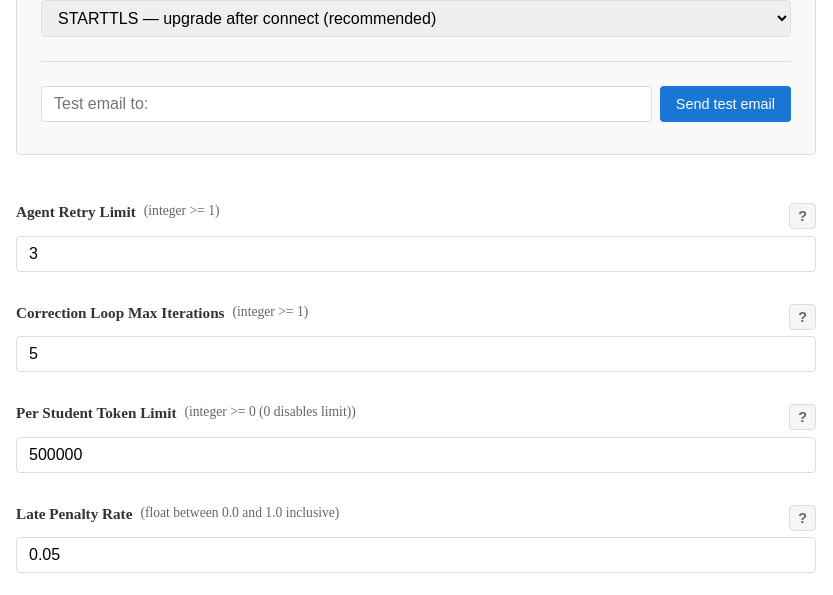
Scenario: SystemConfigView › server 422 validation errors parsed and displayed per field
(page scrolled)
Note: Change a valid field to trigger PATCH
Replace the text in the field with id "config-agent_retry_limit" with "5" at (416, 254), box [16, 236, 816, 272]
(page scrolled)
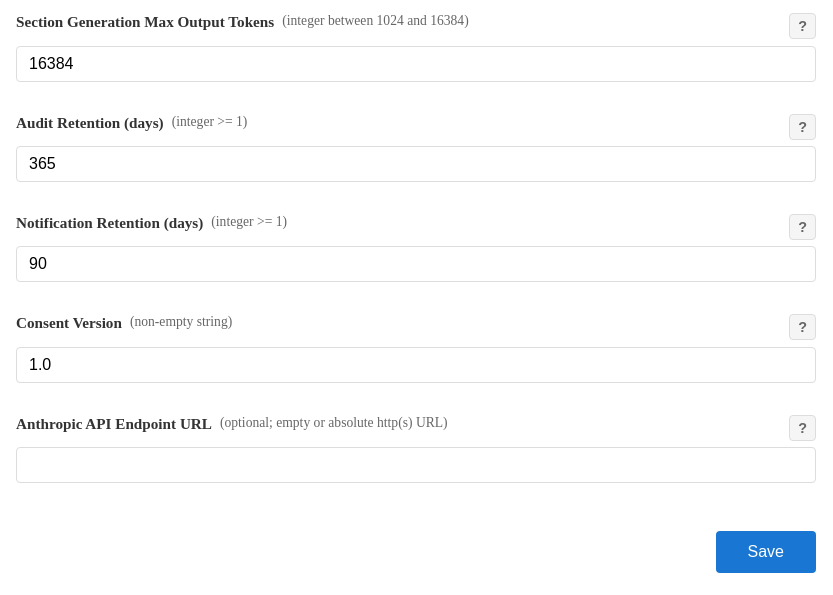
Click the button with class "save-button" at (766, 552), box [716, 531, 816, 573]
(page scrolled)
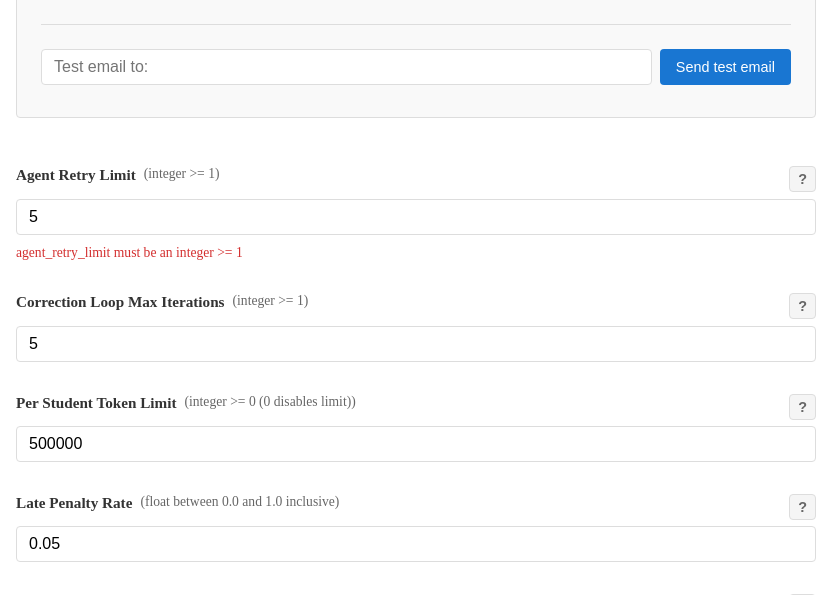
Result: the text with class "field-error" reads "agent_retry_limit must be an integer >= 1" at [16, 245, 243, 260]
